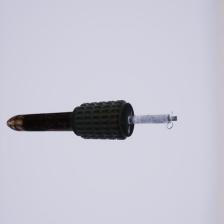POMZ2: (6, 98, 196, 158)
